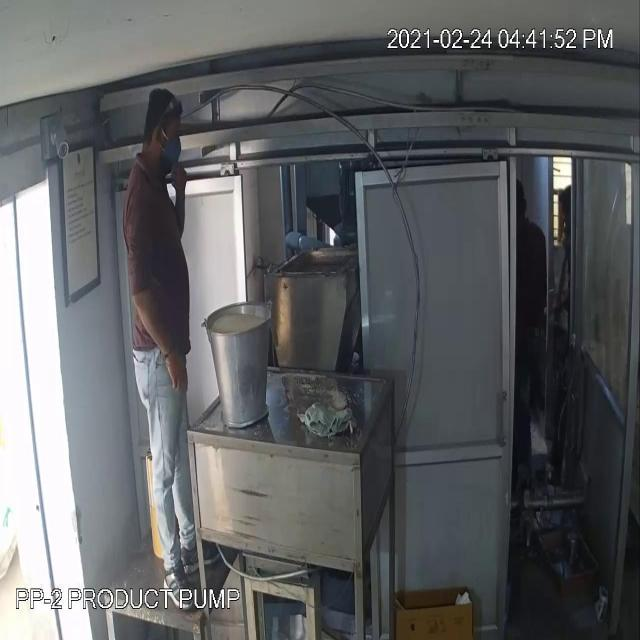no-helmet: (135, 77, 185, 151)
